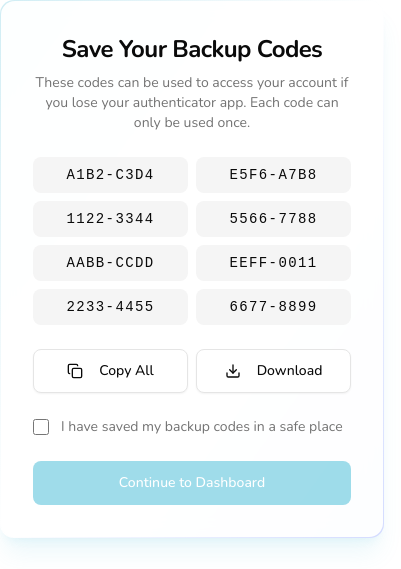
Scenario: BackupCodesDisplay › should copy all codes to clipboard when Copy All is clicked
Click the button with test id "backup-codes-copy" at (110, 371), box 33,349 -> 188,393
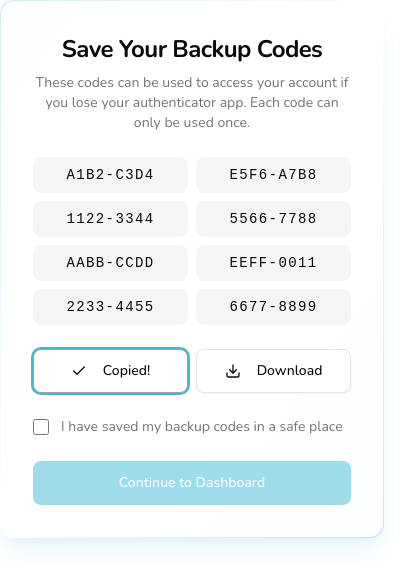
Expected: the button with test id "backup-codes-copy" reads "Copied!", 33,349 -> 188,393
